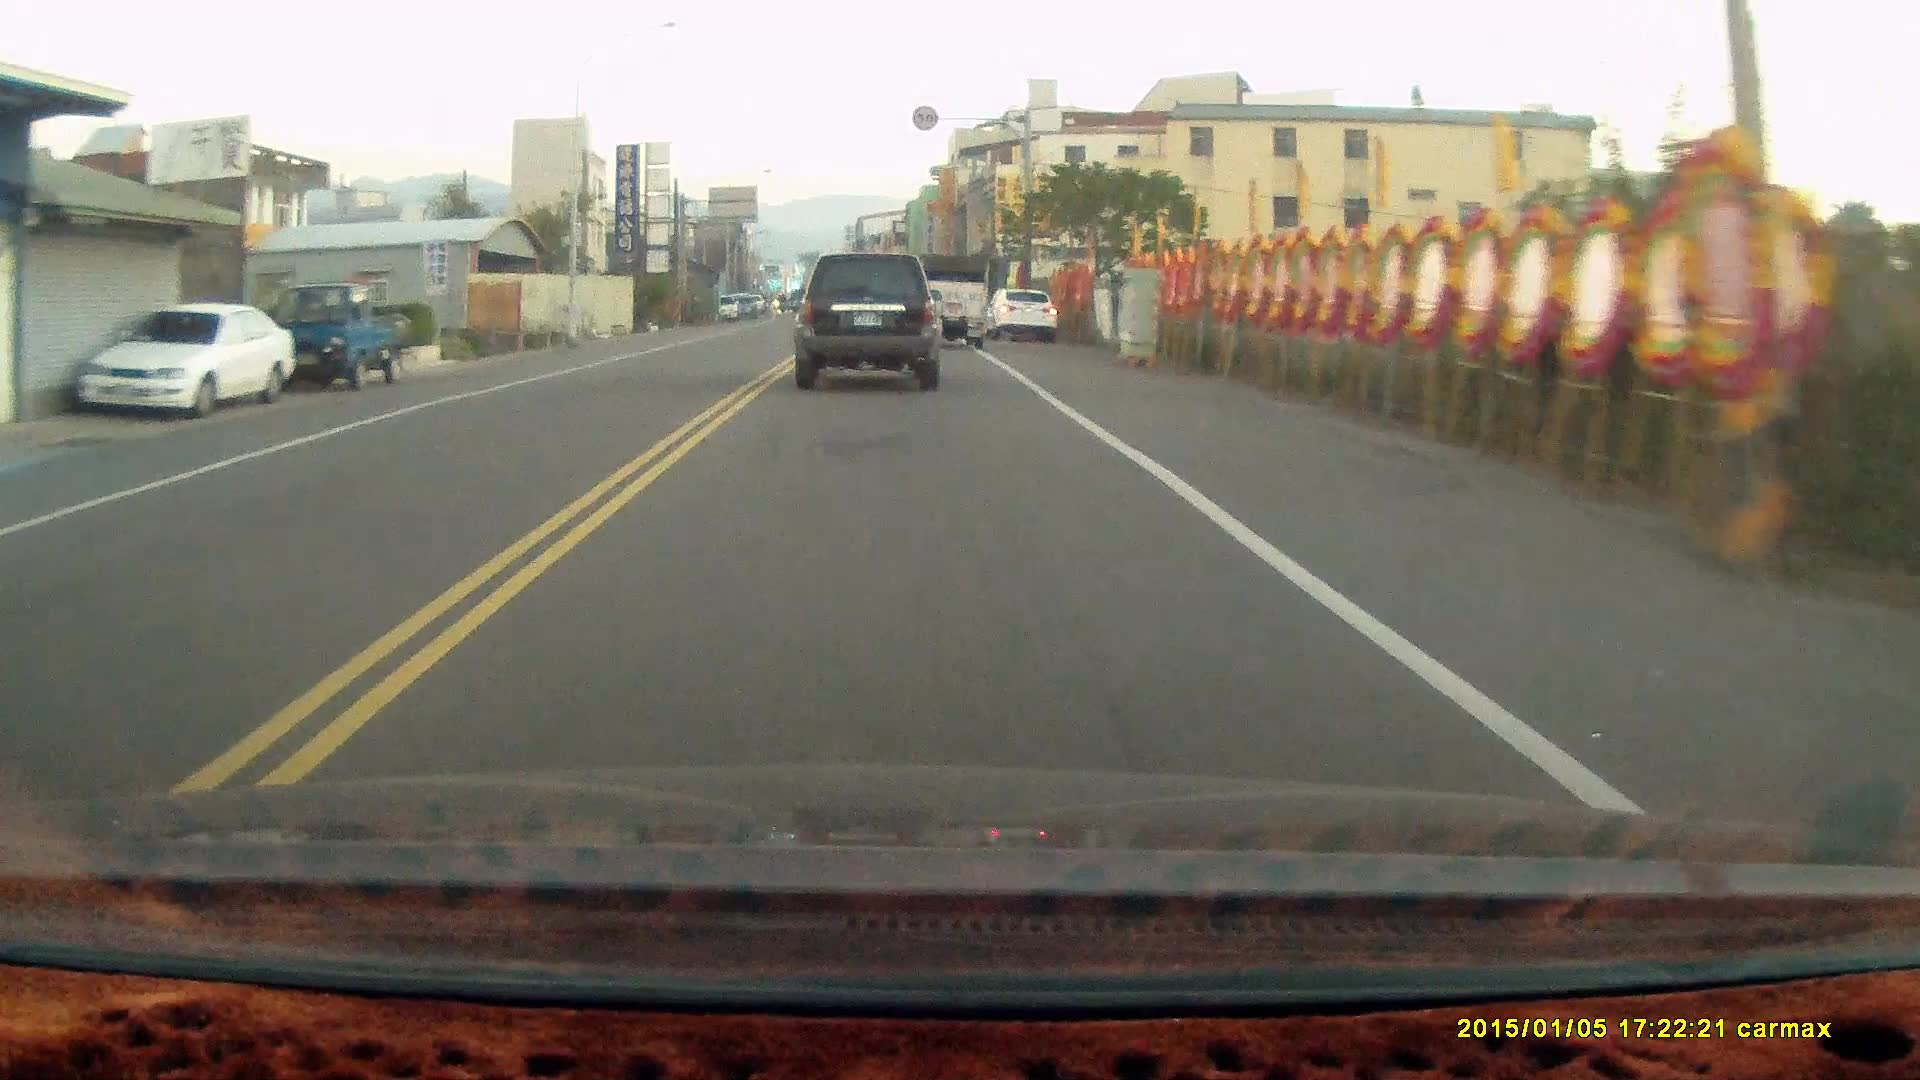vehicle: (75, 305, 293, 418), (796, 255, 945, 396), (258, 285, 419, 397), (915, 251, 993, 353), (993, 286, 1060, 345)
